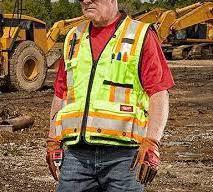helmet: (55, 16, 153, 147)
